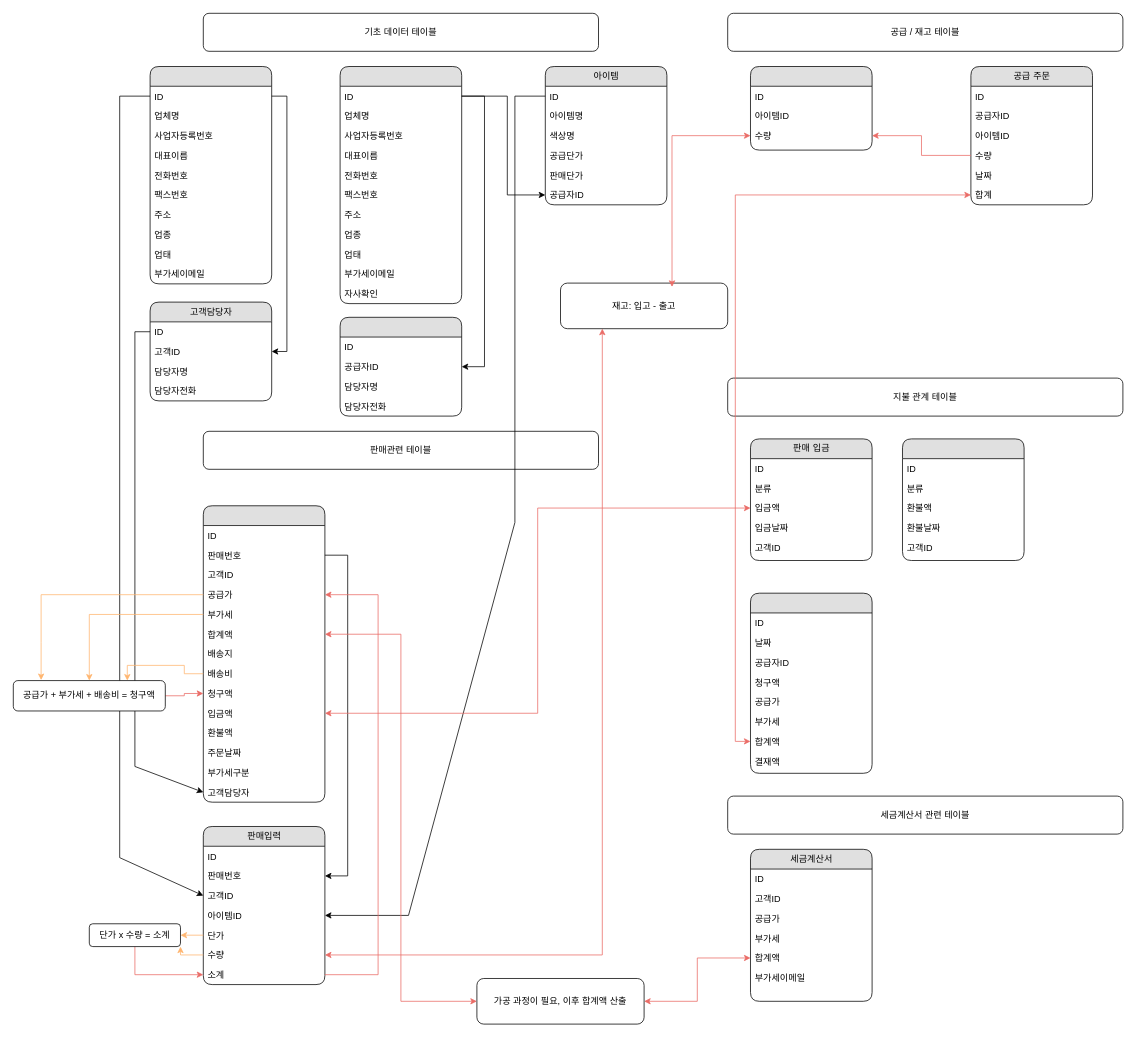
Image size: 1136x1037. Some labels were removed from this diagram. Here are the shapes that lost their labels. From the top down, the box of each, then its label:
(750, 66, 872, 150): 재고
(149, 66, 272, 284): 고객
(339, 66, 462, 304): 공급자
(339, 317, 462, 416): 공급담당자
(902, 438, 1024, 560): 판매 환불
(203, 505, 325, 802): 판매장
(750, 592, 872, 773): 공급 결재
